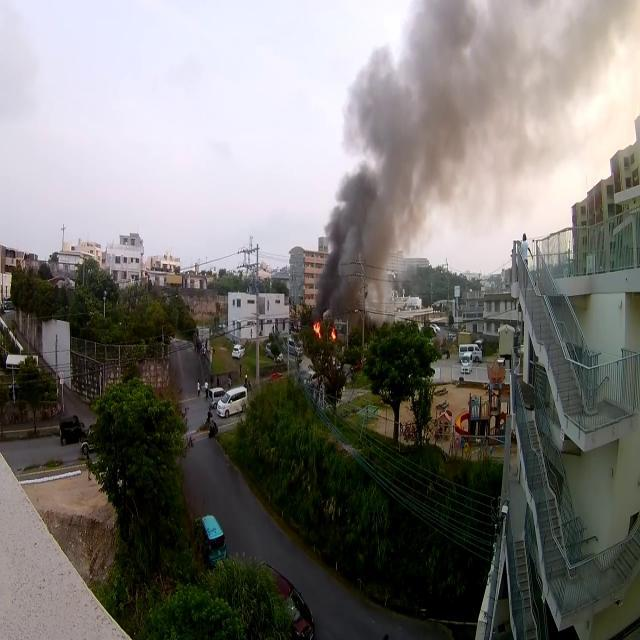Fire: (311, 319, 320, 333), (330, 327, 338, 342)
